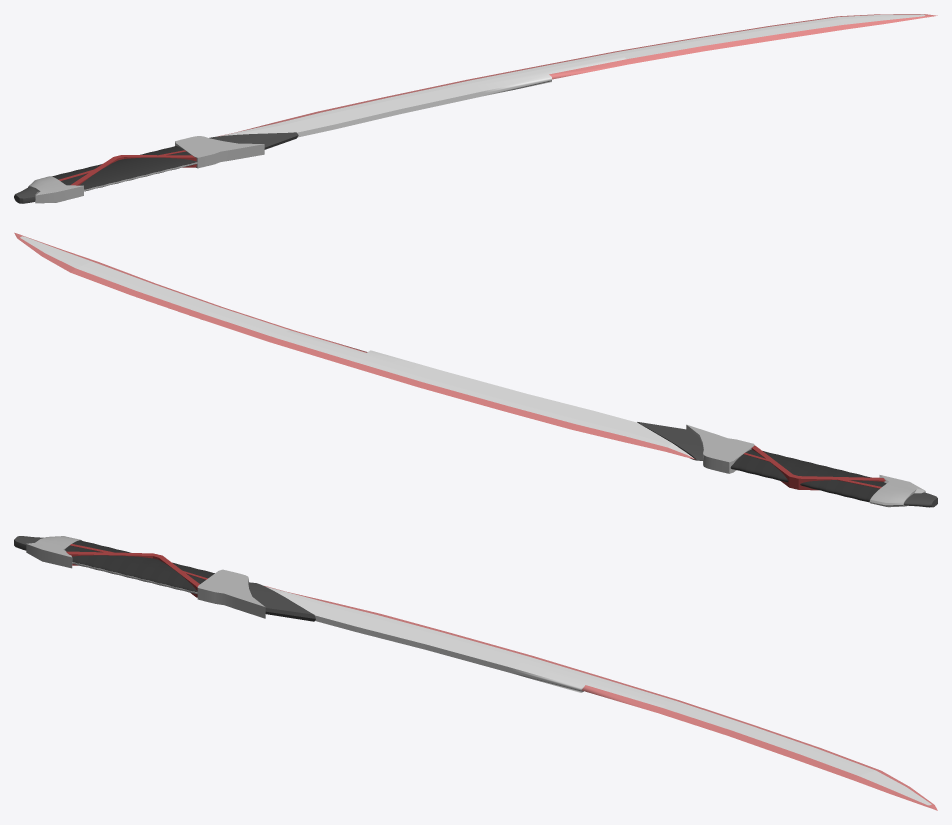
Rendered from SwordMesh.fbx.
3 renders of one model, top to bottom at view 1: azimuth 30°, elevation 25°; view 2: azimuth 150°, elevation 25°; view 3: azimuth 330°, elevation 25°, orthographic. The views are drawn at different scales.
Visible parts, largest first — view 1: Sword; view 2: Sword; view 3: Sword.
Part boxes in pixels (left/top/right/bottom): Sword: left=14, top=14, right=937, bottom=203; Sword: left=14, top=232, right=937, bottom=507; Sword: left=14, top=536, right=937, bottom=810.
Size of the model in its own units: 1499 by 17.83 by 168.
